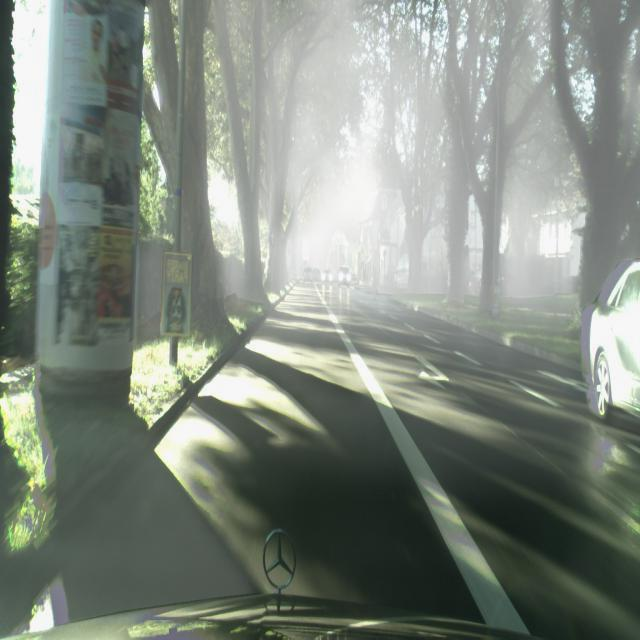bus: (580, 258, 640, 423), (338, 265, 352, 285)
